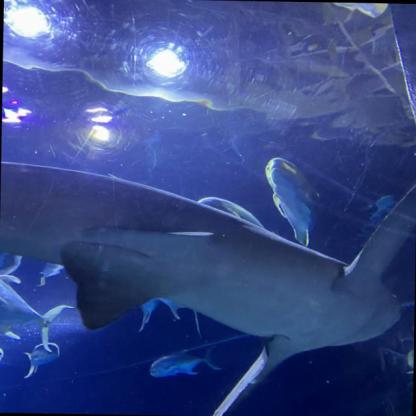fish: (0, 274, 76, 355), (263, 156, 320, 246), (149, 343, 222, 377), (23, 342, 60, 378), (0, 346, 5, 372)
shark: (0, 159, 415, 415)
